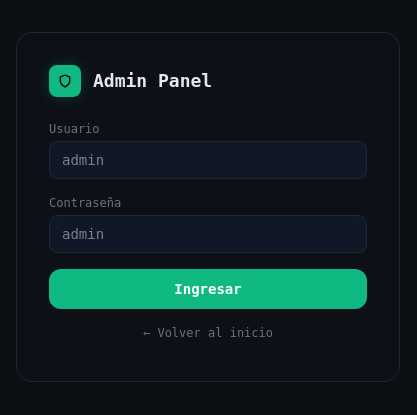
Scenario: AdminPanel › login › muestra error de credenciales incorrectas en español
The width and height of the screenshot is (417, 415).
Type "root" into the field with placeholder "admin".
click(208, 160); type("root")  # box [49,141,367,179]
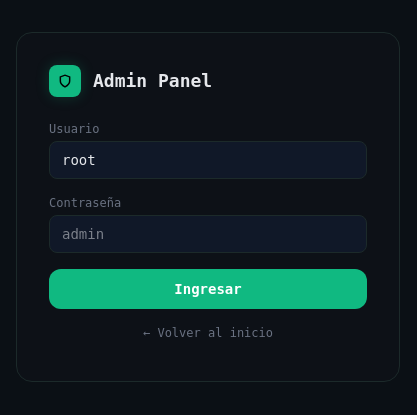
Type "wrong" into the password field with placeholder "admin".
click(208, 234); type("wrong")  # box [49,215,367,253]
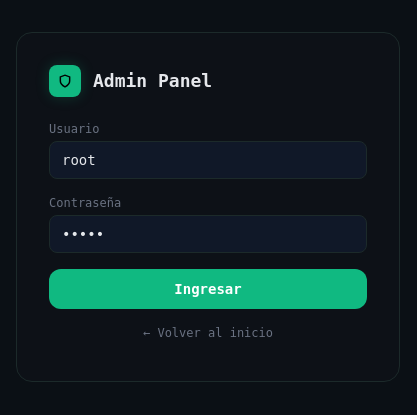
Click the button "Ingresar".
click(208, 289)  # box [49,269,367,309]
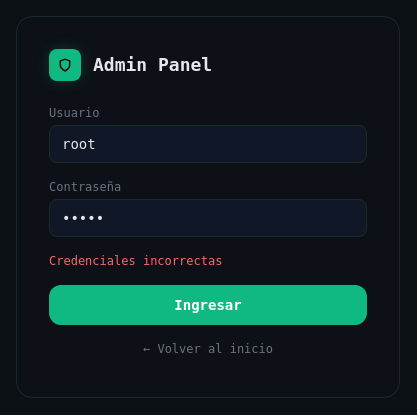
Result: the text "Credenciales incorrectas" is shown at [49,254,222,268]
